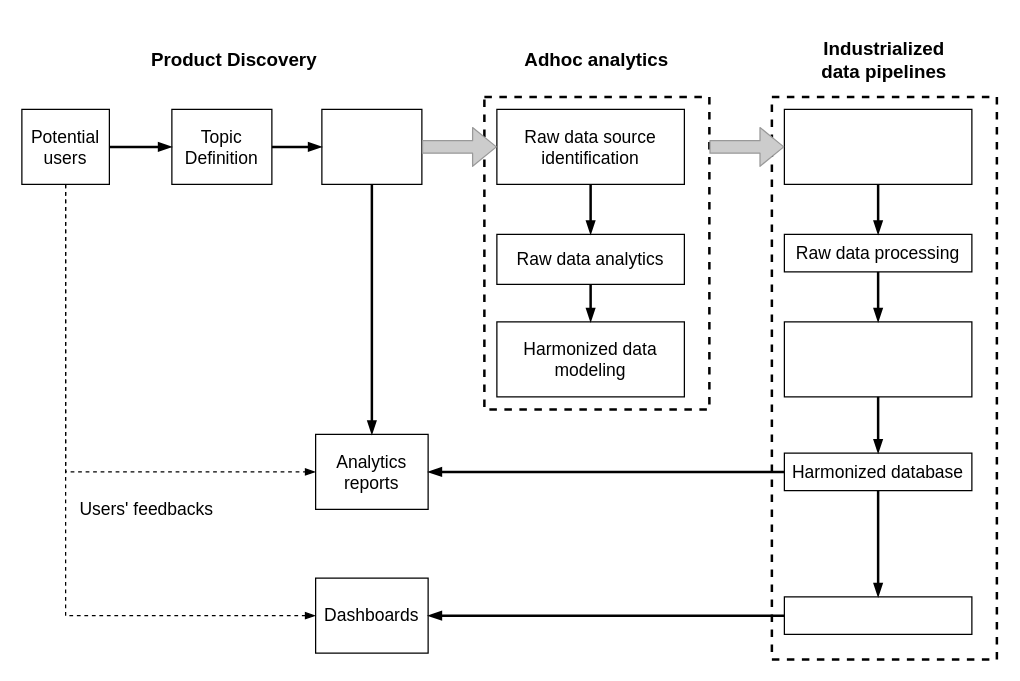
The diagram is 1020 pixels wide and 681 high, and some of its shapes have lost their labels. Each missing label, with the box of its shape:
API: (783, 596, 972, 634)
Harmonized data storage: (783, 321, 972, 397)
Questions listing: (321, 108, 422, 184)
raw data collection & ingestion: (783, 108, 972, 184)
